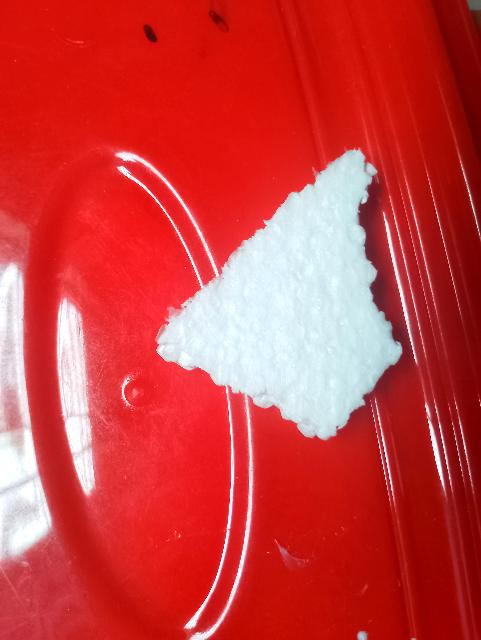cocksheet: (155, 146, 481, 475)
